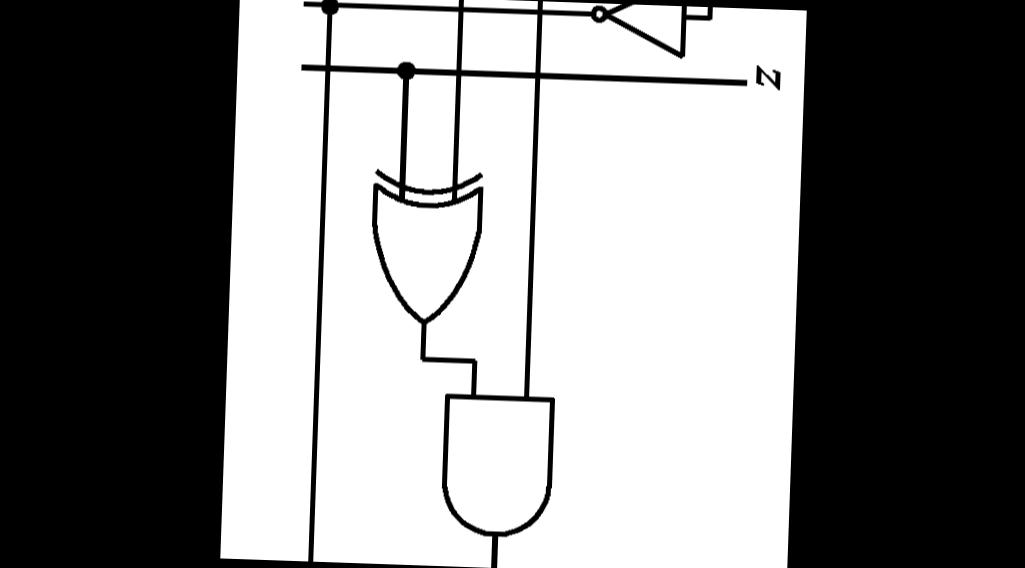and: (418, 365, 579, 560)
not: (574, 2, 700, 70)
xor: (354, 143, 496, 334)
